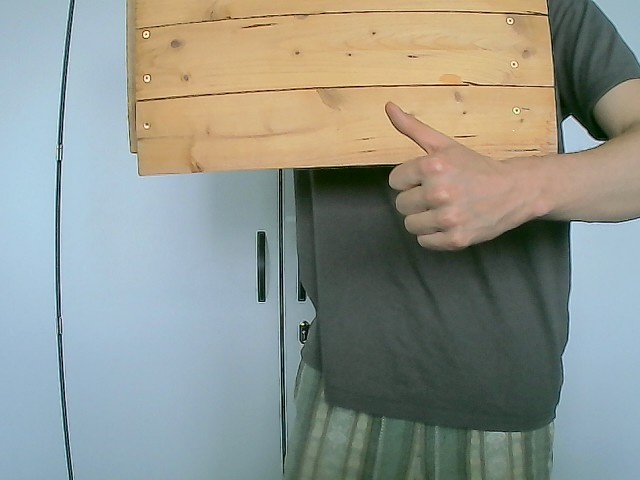up: (382, 100, 533, 254)
